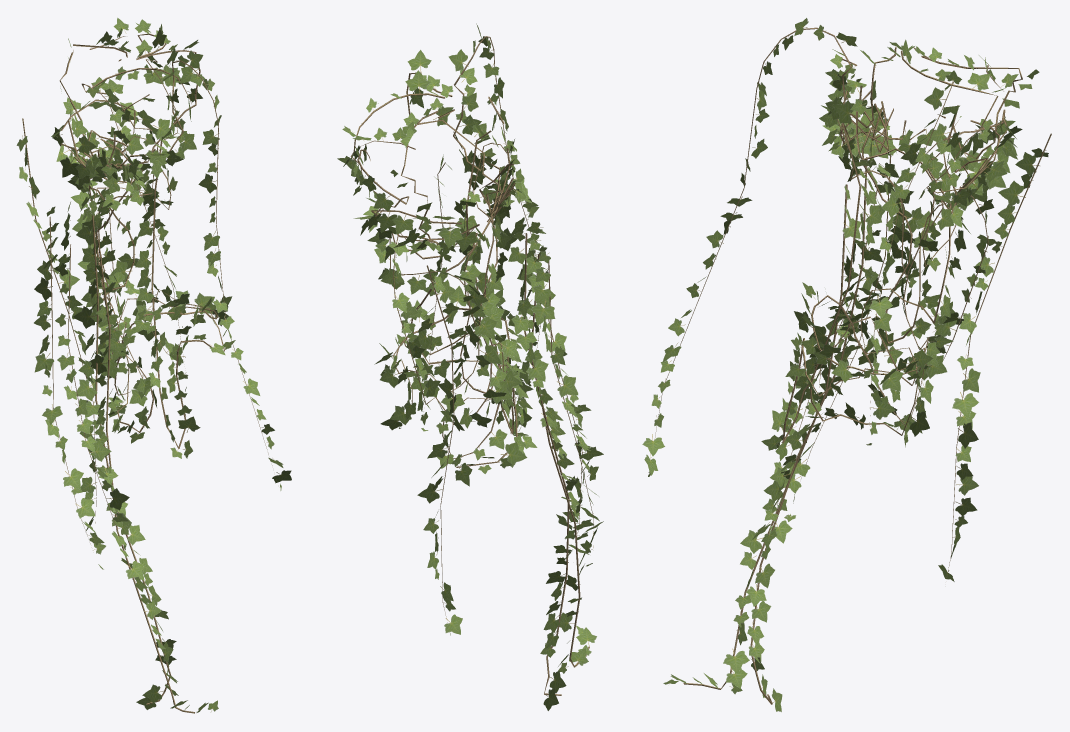
The model's file is ivy_04.fbx.
3 renders of one model, left to right at view 1: azimuth 30°, elevation 25°; view 2: azimuth 150°, elevation 25°; view 3: azimuth 270°, elevation 25°, orthographic. The views are drawn at different scales.
Parts seen in each view (by area): view 1: NewIvySnapshot_8.001; view 2: NewIvySnapshot_8.001; view 3: NewIvySnapshot_8.001.
Part boxes in pixels (<box>): NewIvySnapshot_8.001: <box>16,17,291,713</box>; NewIvySnapshot_8.001: <box>337,23,603,710</box>; NewIvySnapshot_8.001: <box>642,18,1051,712</box>.
Bounding box in the file's own units: 64.98 × 198 × 102.
